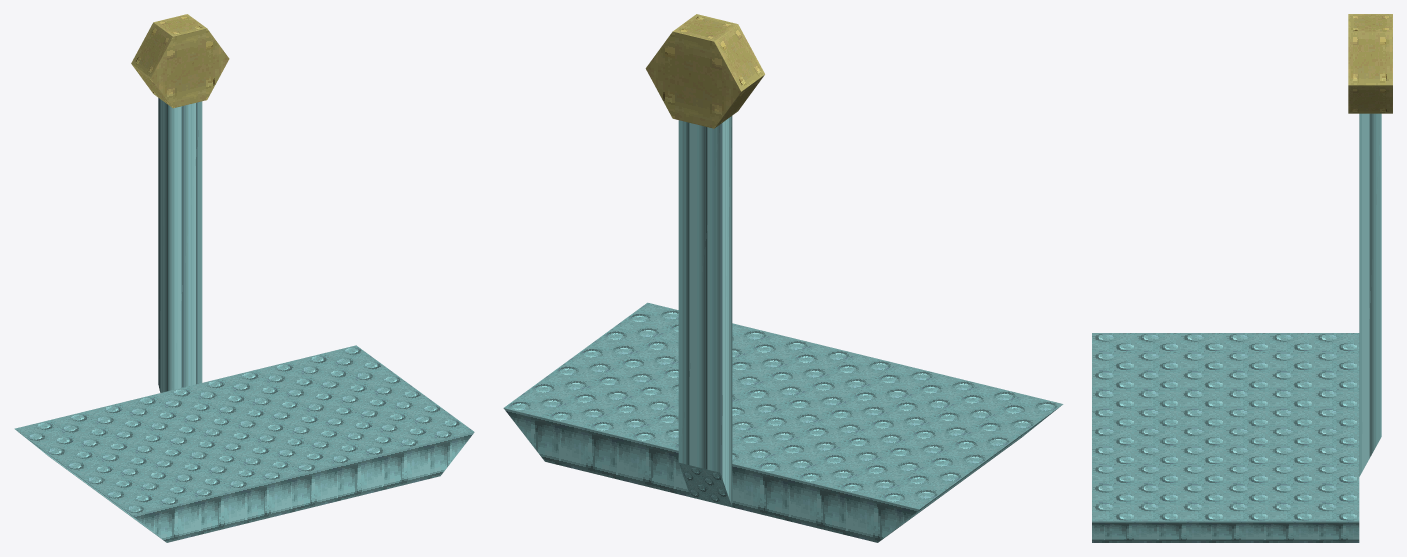
File: rc_buranko.glb
3 renders of one model, left to right at view 1: azimuth 30°, elevation 25°; view 2: azimuth 150°, elevation 25°; view 3: azimuth 270°, elevation 25°, orthographic. The views are drawn at different scales.
Parts seen in each view (by area): view 1: rc_buranko; view 2: rc_buranko; view 3: rc_buranko.
Part boxes in pixels (<box>): rc_buranko: <box>14,14,474,542</box>; rc_buranko: <box>503,14,1063,542</box>; rc_buranko: <box>1092,14,1392,542</box>.
Size of the model in its own units: 125 by 138 by 84.38.
Materials: 3 (3 with a texture image).
